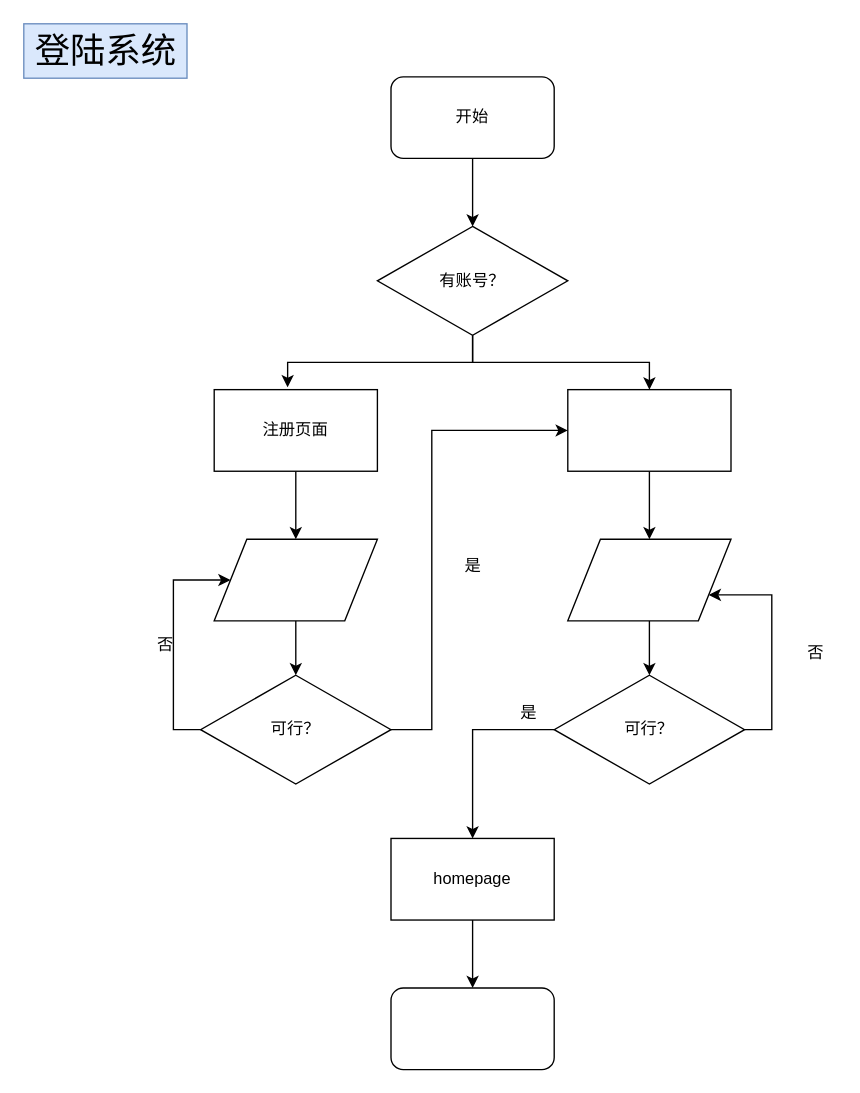
The diagram is 860 pixels wide and 1093 high, and some of its shapes have lost their labels. Here are the shapes that lost their labels. From the top down, the centre of each, then its label:
At (648,429): "登录页面".
At (295,579): "填写注册表".
At (648,579): "输入账号信息".
At (472,1028): "结束".
